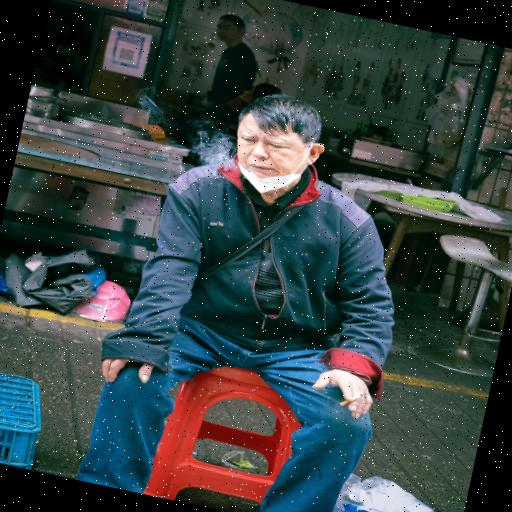terdeteksi pegang rokok: (304, 352, 391, 442)
